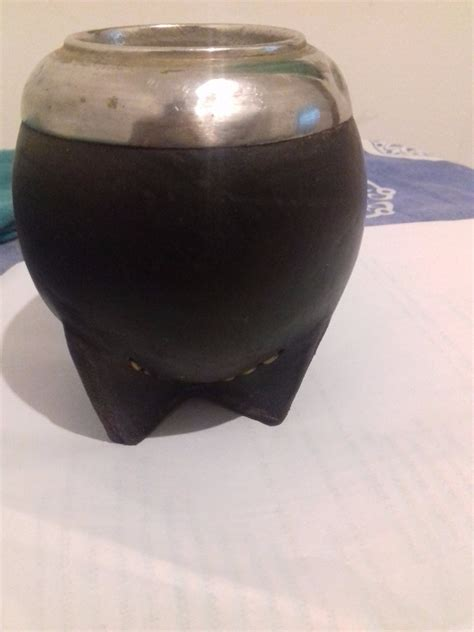cuero: (12, 122, 372, 450)
